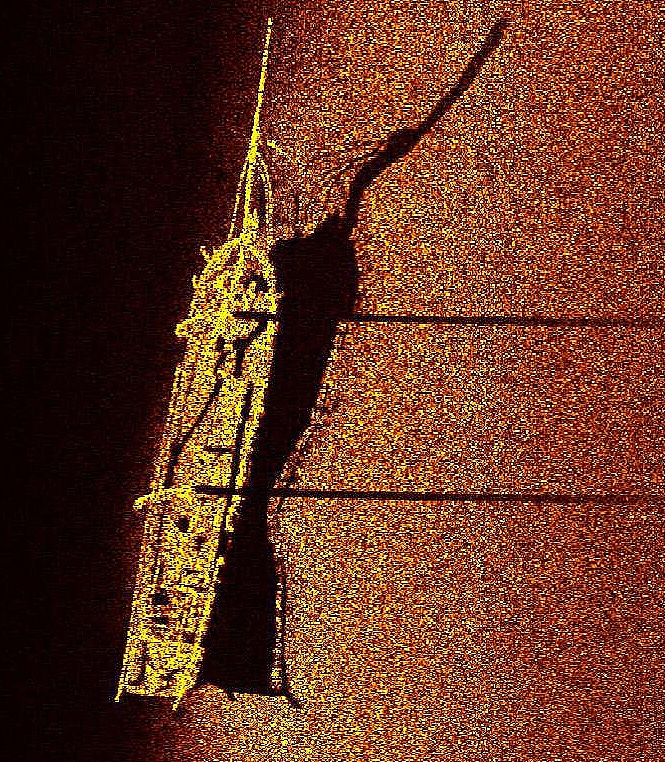ship: (111, 15, 286, 711)
